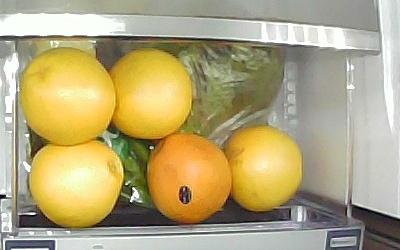grapefruit: (19, 46, 115, 145), (27, 138, 124, 228), (145, 131, 232, 222), (107, 47, 193, 139), (221, 125, 302, 211)
